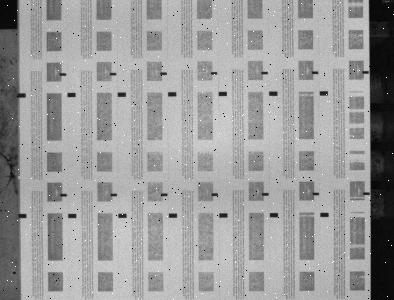backgroundclutter: (13, 271, 16, 274)
qblock: (18, 213, 27, 218), (118, 213, 127, 218), (169, 213, 178, 218), (320, 212, 329, 217), (118, 92, 126, 97), (270, 91, 278, 96), (68, 213, 76, 218), (168, 92, 177, 96), (219, 213, 228, 217), (320, 91, 329, 95), (270, 213, 279, 217), (17, 93, 26, 97), (219, 92, 227, 96), (68, 93, 76, 97)
smallqblock: (60, 193, 67, 197), (211, 71, 218, 75), (262, 192, 269, 196), (212, 193, 219, 196), (160, 72, 167, 75), (161, 193, 168, 196), (59, 73, 66, 76), (363, 71, 370, 74), (364, 192, 371, 195), (110, 72, 117, 75), (313, 192, 320, 195), (262, 71, 268, 74), (111, 193, 117, 196), (313, 71, 319, 74)
